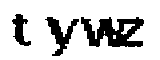t: (10, 14, 34, 48)
w: (79, 15, 123, 52)
y: (45, 14, 78, 58)
z: (120, 18, 150, 47)
